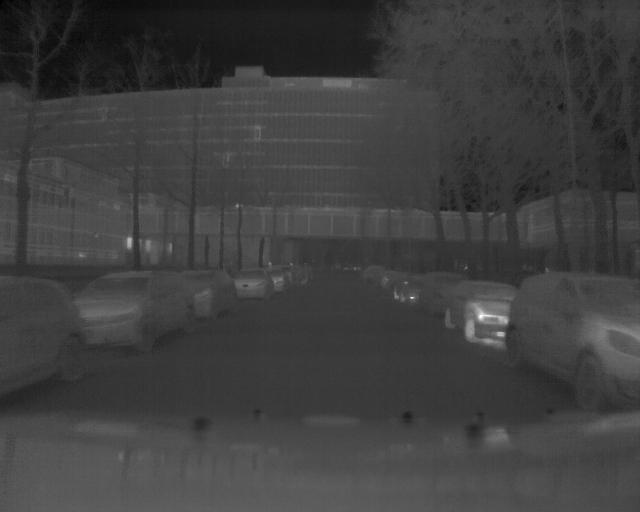car: (519, 267, 640, 409), (77, 268, 197, 352), (1, 275, 87, 383), (450, 275, 509, 343), (188, 268, 241, 315), (234, 264, 274, 297), (425, 267, 453, 313)
